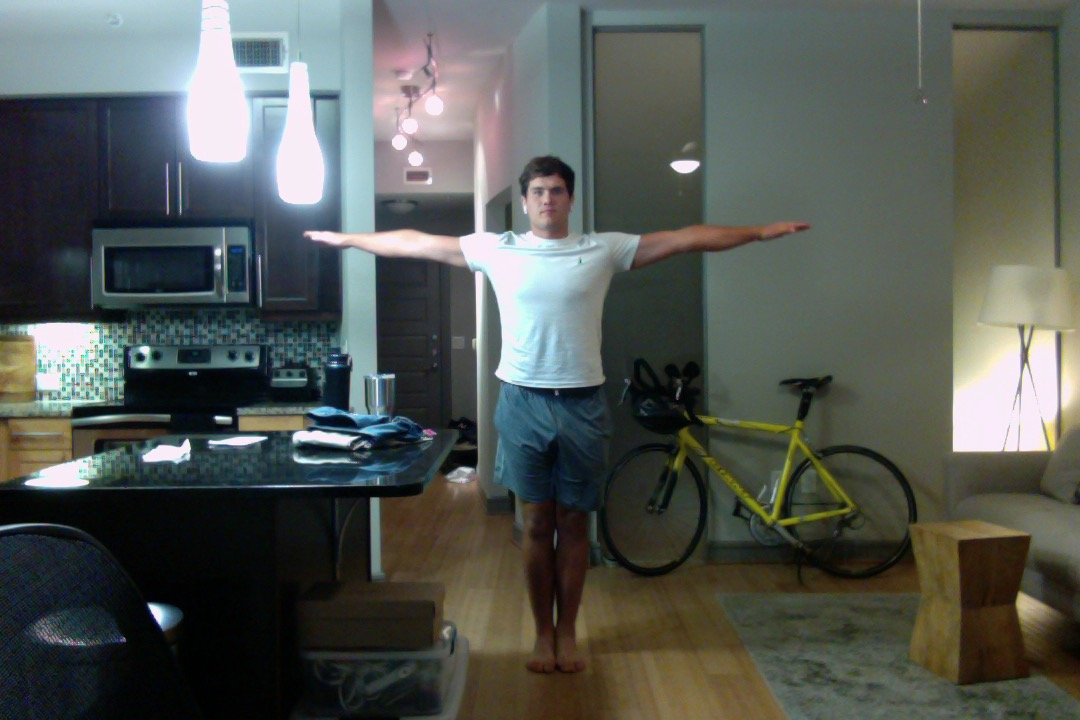T: (300, 149, 817, 683)
